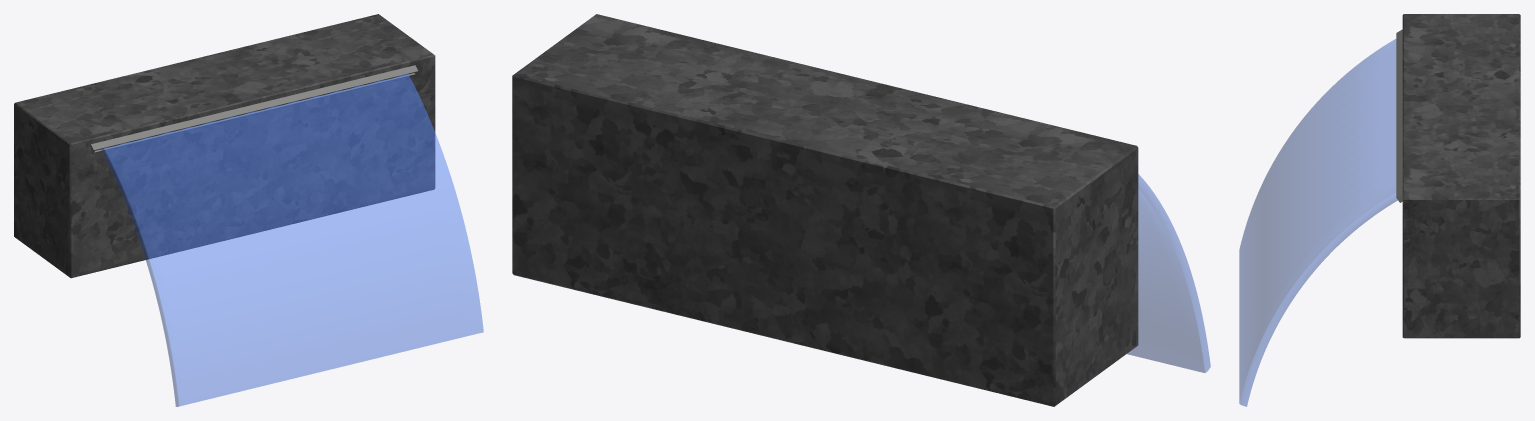
File: waterblade.glb
3 renders of one model, left to right at view 1: azimuth 30°, elevation 25°; view 2: azimuth 150°, elevation 25°; view 3: azimuth 270°, elevation 25°, orthographic. The views are drawn at different scales.
Visible parts, largest first — view 1: Water blade; view 2: Water blade; view 3: Water blade.
Boxes of the visible parts, bbox=[...] form: Water blade: bbox=[14, 14, 483, 406]; Water blade: bbox=[512, 14, 1210, 406]; Water blade: bbox=[1239, 14, 1520, 406].
Size of the model in its own units: 5.16 by 2.91 by 3.31.
Materials: 3 (1 with a texture image).
